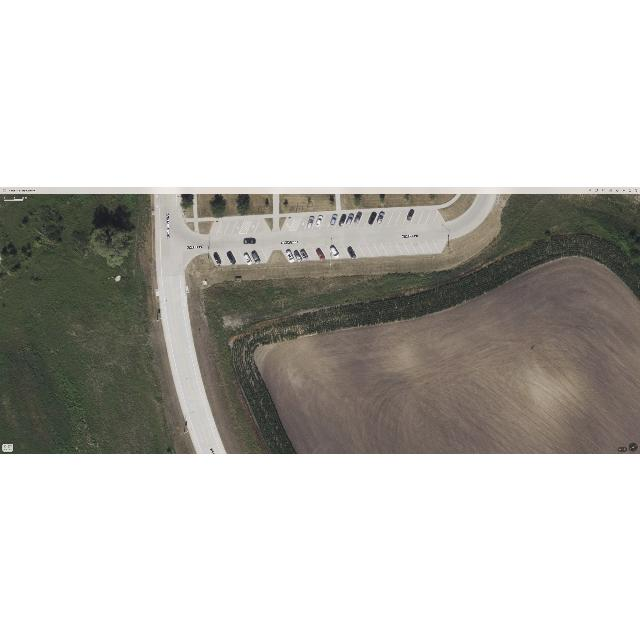Empty: (350, 243, 366, 258), (280, 216, 295, 231), (387, 210, 401, 226), (395, 210, 409, 226), (320, 245, 335, 259), (335, 244, 350, 258), (358, 243, 373, 257), (373, 242, 388, 256), (410, 240, 425, 254), (417, 239, 432, 253), (425, 239, 440, 253), (319, 214, 333, 229), (296, 215, 310, 230), (365, 243, 381, 256), (231, 219, 245, 233), (246, 219, 260, 233), (396, 241, 410, 255), (403, 240, 417, 254), (380, 211, 394, 225), (305, 246, 320, 259), (381, 242, 396, 255), (388, 242, 403, 255), (418, 209, 431, 224), (217, 220, 230, 234), (224, 220, 237, 234), (358, 212, 371, 226), (410, 209, 423, 223), (425, 209, 438, 223), (209, 221, 222, 234)
Parked: (350, 210, 364, 227), (247, 249, 262, 264), (365, 210, 379, 226), (403, 207, 416, 224), (281, 248, 296, 262), (289, 247, 304, 261), (328, 244, 343, 258), (343, 244, 358, 258), (335, 213, 349, 228), (304, 214, 318, 229), (343, 211, 356, 227), (225, 250, 239, 264), (372, 211, 386, 225), (327, 214, 341, 228), (209, 250, 222, 265), (240, 249, 253, 264), (297, 247, 312, 260), (312, 246, 327, 259), (312, 214, 325, 229)
